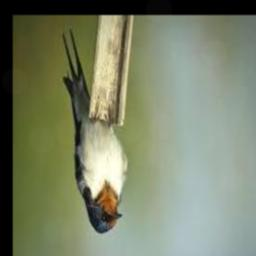Swallow: (60, 28, 127, 233)
